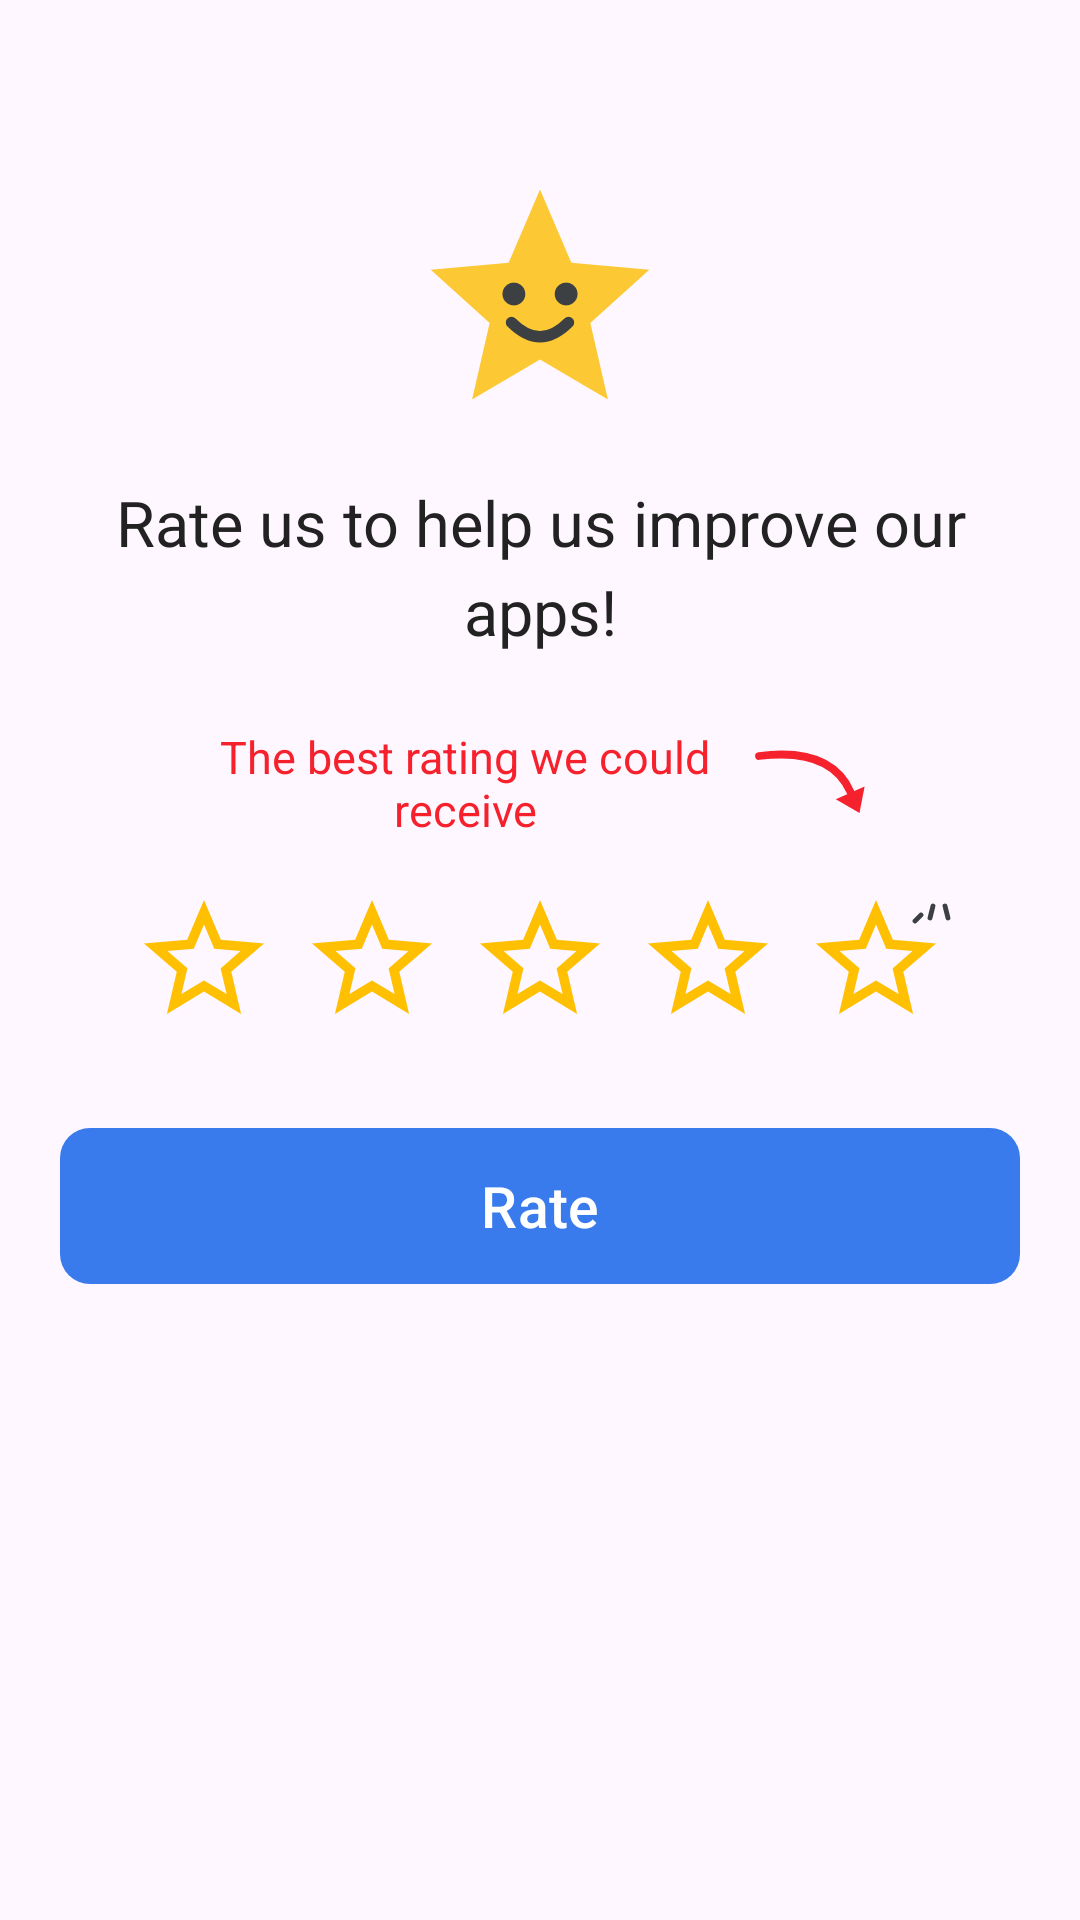

Screen size 1080 x 1920. Icon name, then its center in pixels as (x,y):
face star: (540,295)
rating arrow: (810,781)
Star 1: (204,957)
Star 2: (372,957)
Star 3: (540,957)
Star 4: (708,957)
